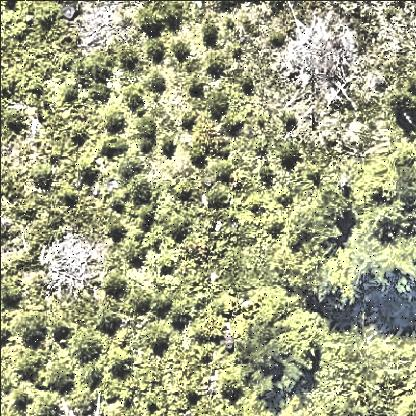tree-top: (268, 241, 364, 309), (239, 324, 307, 397), (345, 220, 415, 286), (132, 1, 182, 30), (43, 362, 78, 398), (100, 271, 128, 297), (103, 218, 128, 244), (144, 329, 170, 354), (100, 111, 126, 134), (77, 341, 101, 362), (209, 98, 231, 120), (172, 44, 194, 64)
